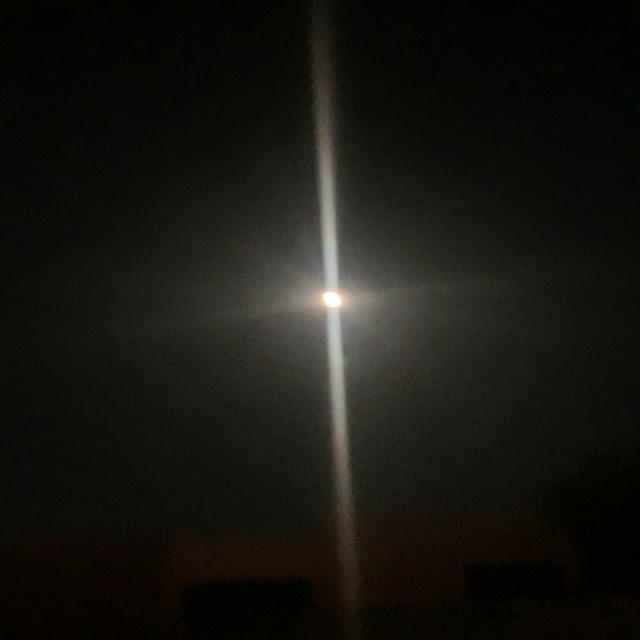moon: (304, 287, 366, 315)
